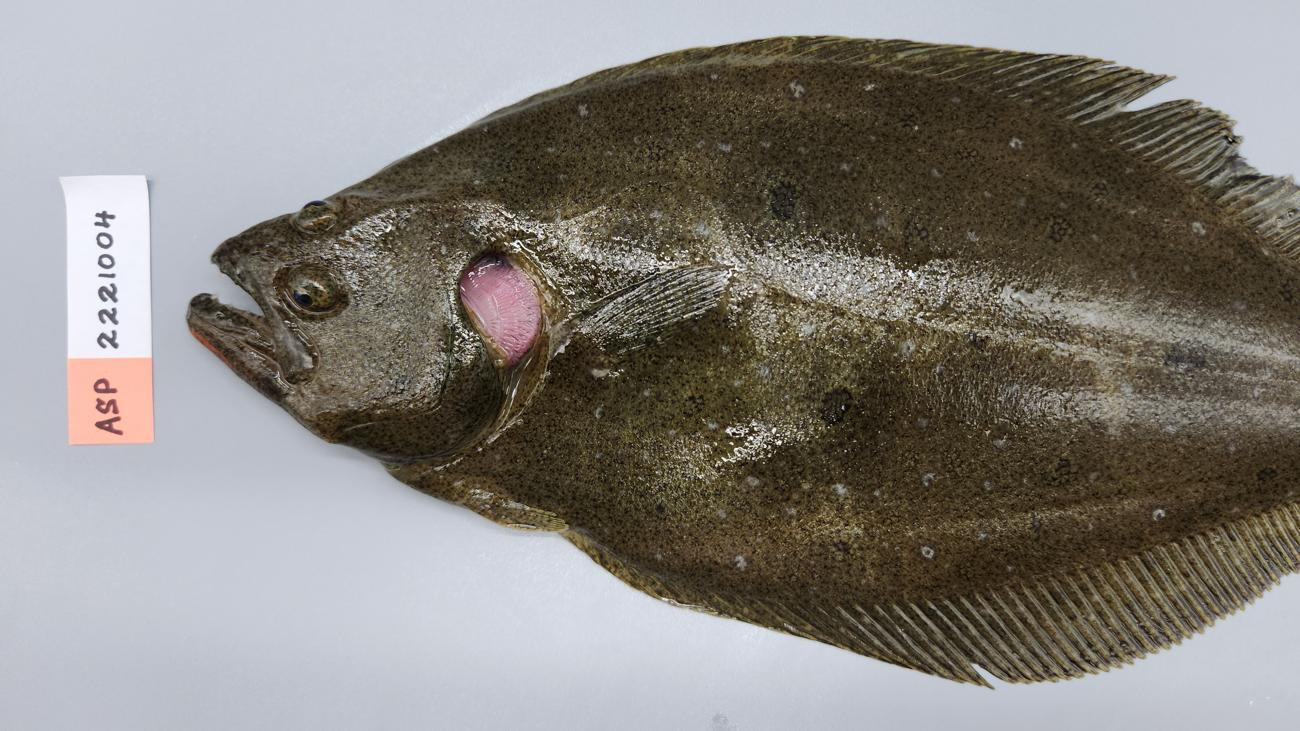SPDYH: (503, 477, 818, 592), (755, 117, 887, 227), (1141, 185, 1224, 256), (958, 119, 1040, 182)
